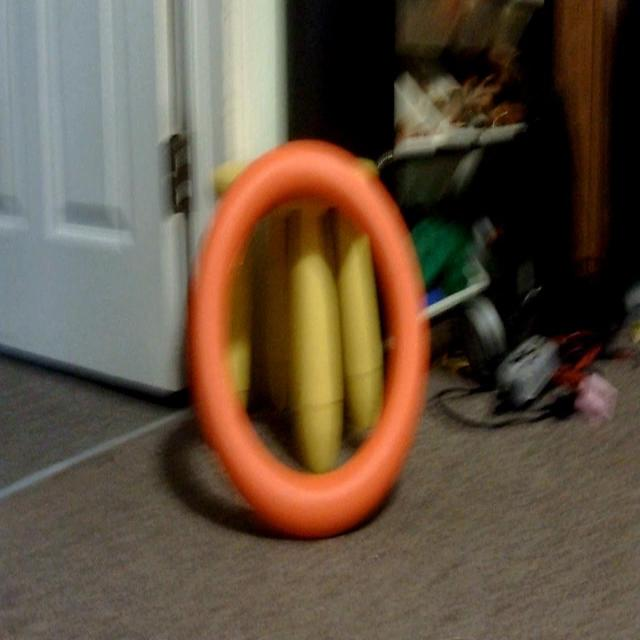note: (186, 136, 432, 548)
